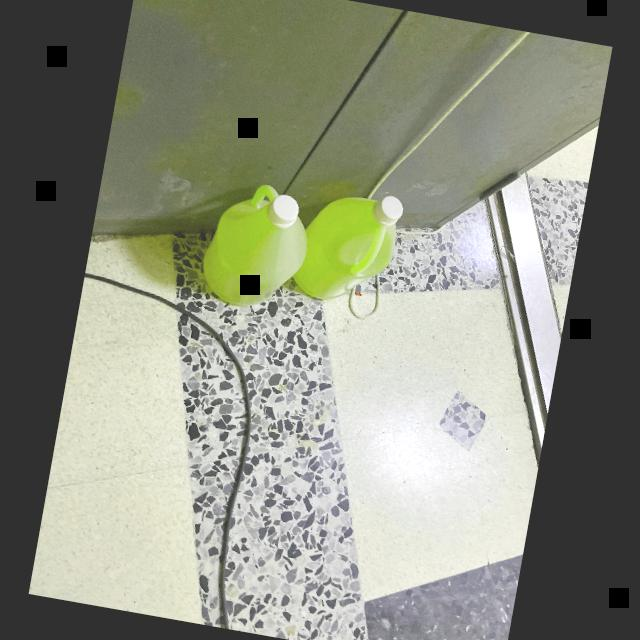chemical_plastic_gallon: (196, 172, 320, 318), (288, 179, 408, 318)
